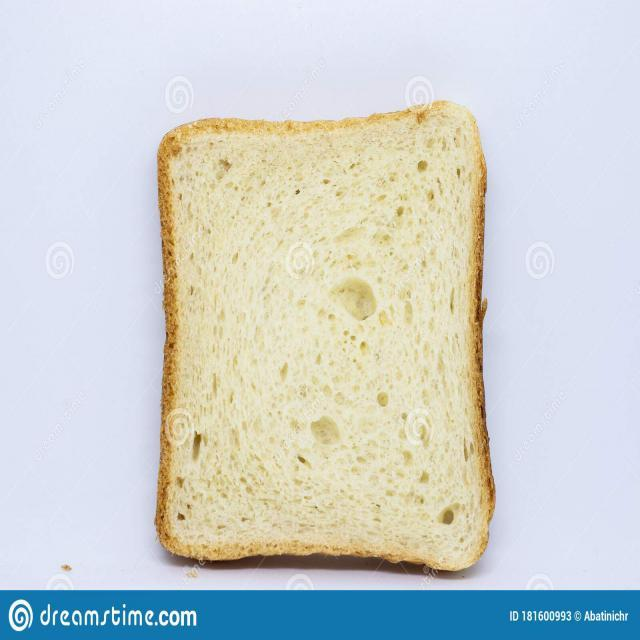Bread: (154, 102, 494, 570)
